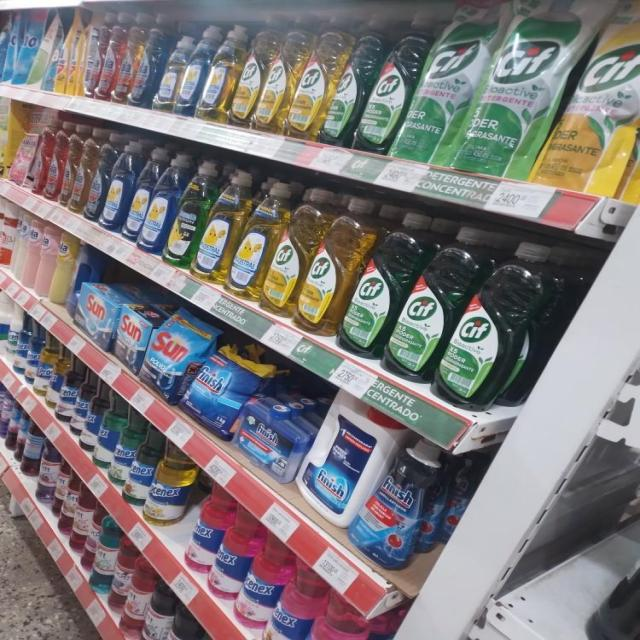ala_conc_amarillo: (71, 126, 89, 215), (62, 122, 75, 211)
ala_conc_rojo: (117, 12, 136, 106), (101, 11, 119, 102), (46, 119, 62, 202)
ala_crem_amarillo: (53, 230, 74, 308)
ala_crem_rosado: (20, 215, 39, 291), (37, 221, 54, 299)
cif_conc_bot_amarilla: (301, 194, 351, 336), (266, 184, 302, 318), (289, 17, 328, 140), (260, 22, 289, 134)
cif_conc_botella_verde: (441, 240, 536, 409), (402, 2, 463, 163), (390, 223, 450, 384), (344, 209, 396, 359), (359, 10, 409, 154), (322, 15, 362, 147)
cif_conc_sachet_verde: (548, 0, 638, 193), (462, 1, 552, 178)
magistral_con_amarillo: (232, 180, 277, 304), (198, 168, 238, 285), (202, 25, 236, 123)
magistral_con_azul: (170, 159, 203, 269), (145, 151, 174, 256), (128, 147, 155, 247), (178, 28, 206, 118), (105, 140, 130, 234)
